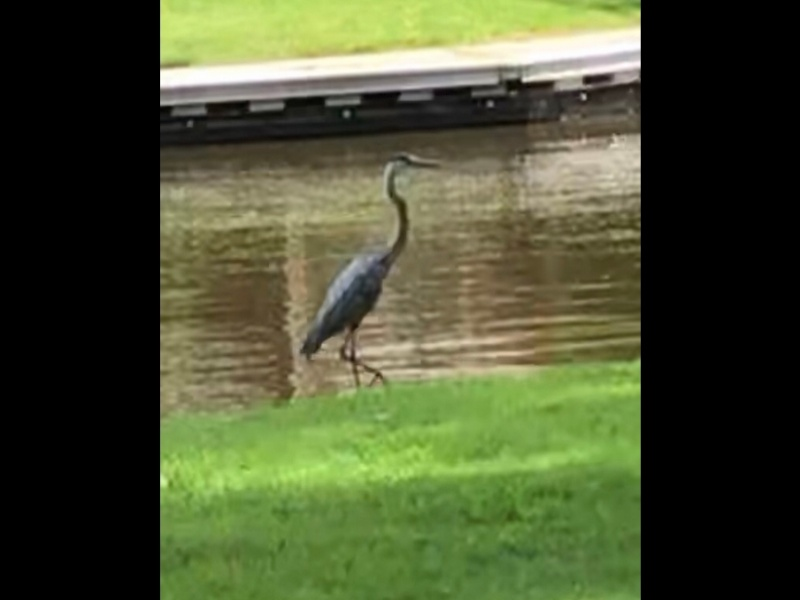heron: (300, 149, 444, 399)
